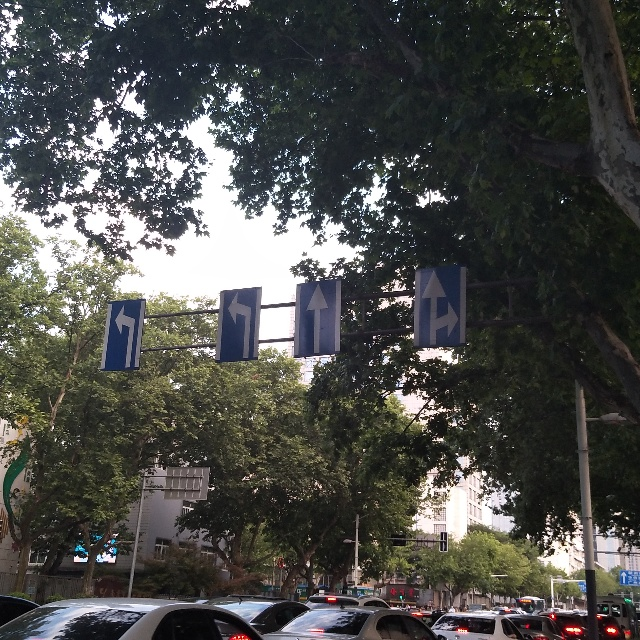left: (215, 288, 261, 363), (101, 299, 145, 372)
straight: (294, 280, 341, 360)
